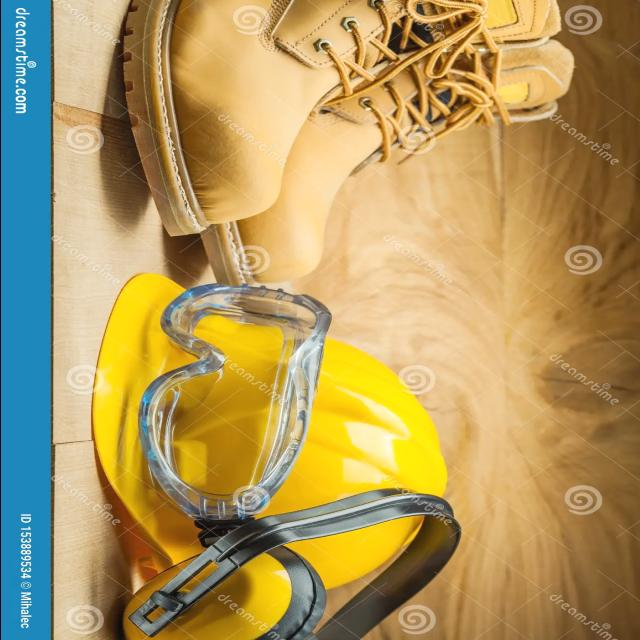Boots: (112, 0, 583, 288)
Ear Muffs: (120, 486, 470, 640)
Hard Hat: (88, 270, 450, 594)
Safety Glasses: (136, 282, 336, 522)
